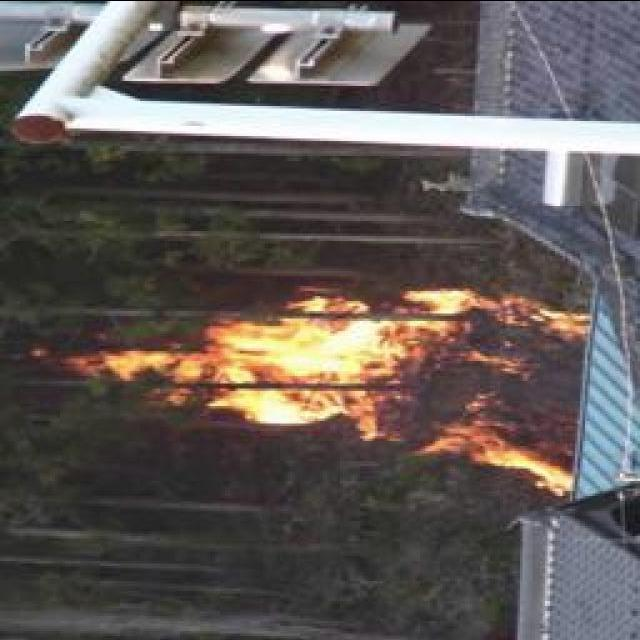Fire: (78, 292, 589, 478)
